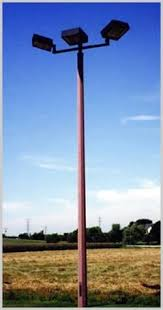light_pole: (69, 37, 92, 310)
